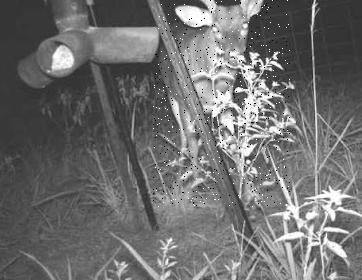Deer: (153, 0, 290, 207)
